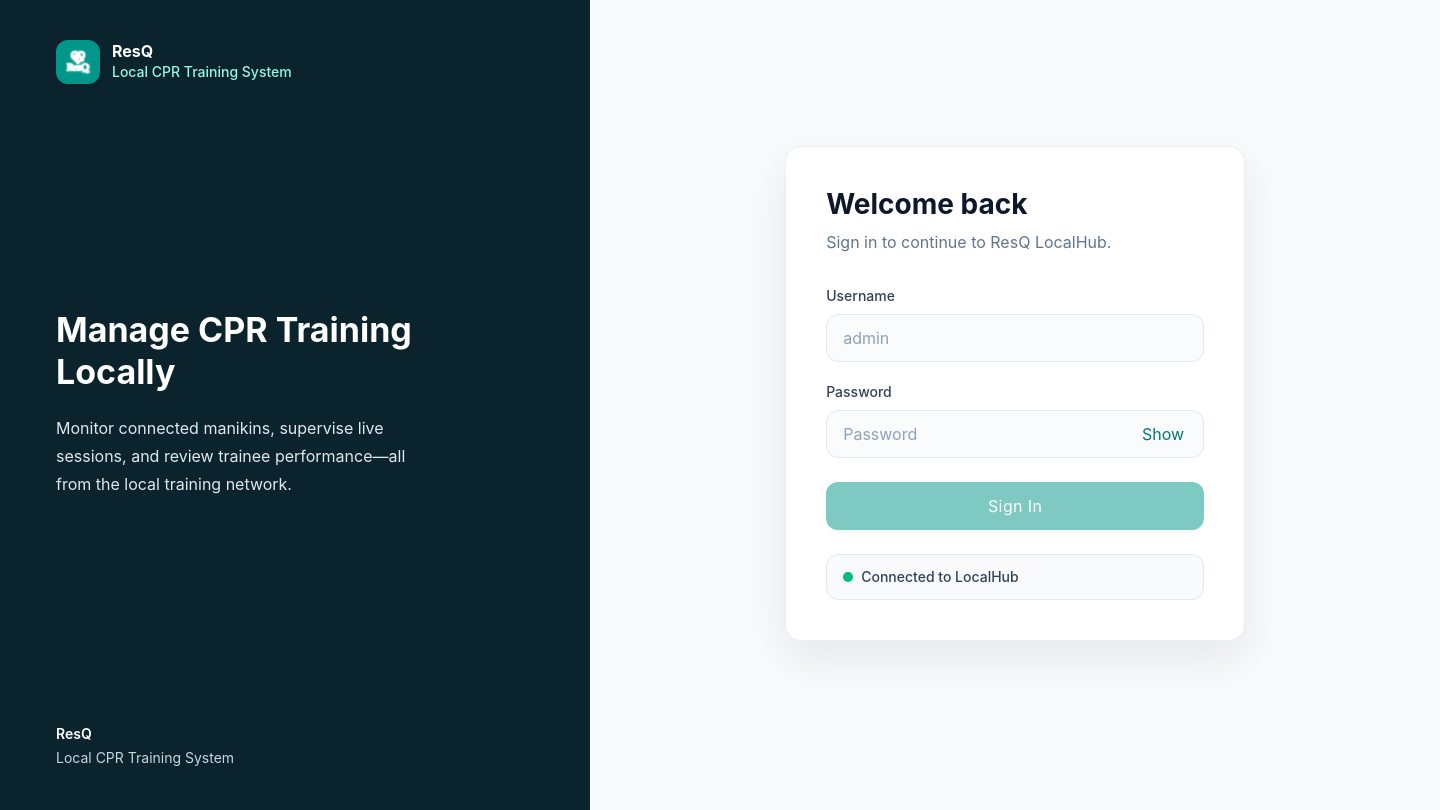
Scenario: V2 LoginPage › disables repeated submissions while sign-in is pending
The image size is (1440, 810).
Type "instructor" into the field labelled "Username" at point(1015, 338), box [826,314,1204,362]
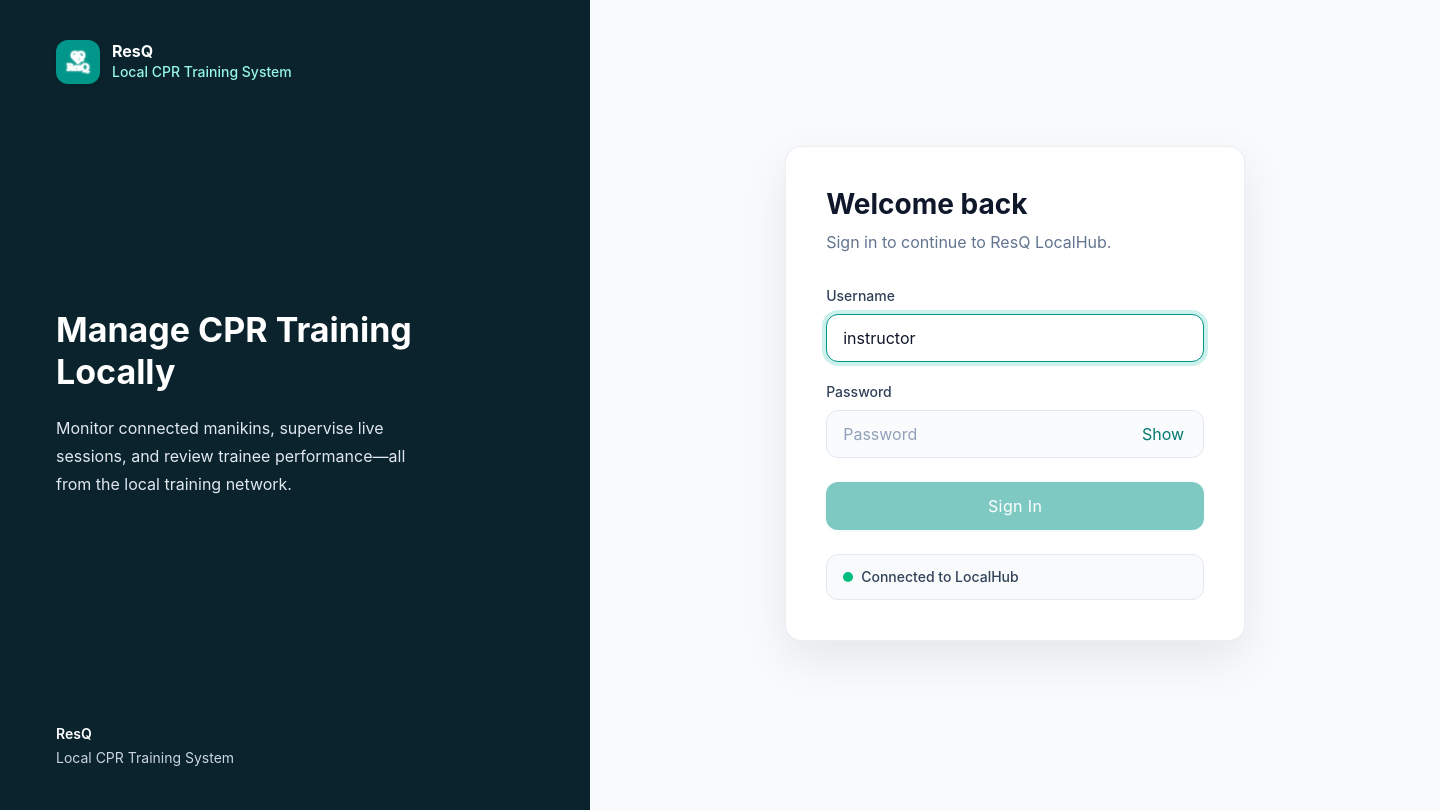
Type "correct-password" into the password field labelled "Password" at point(1015, 434), box [826,410,1204,458]
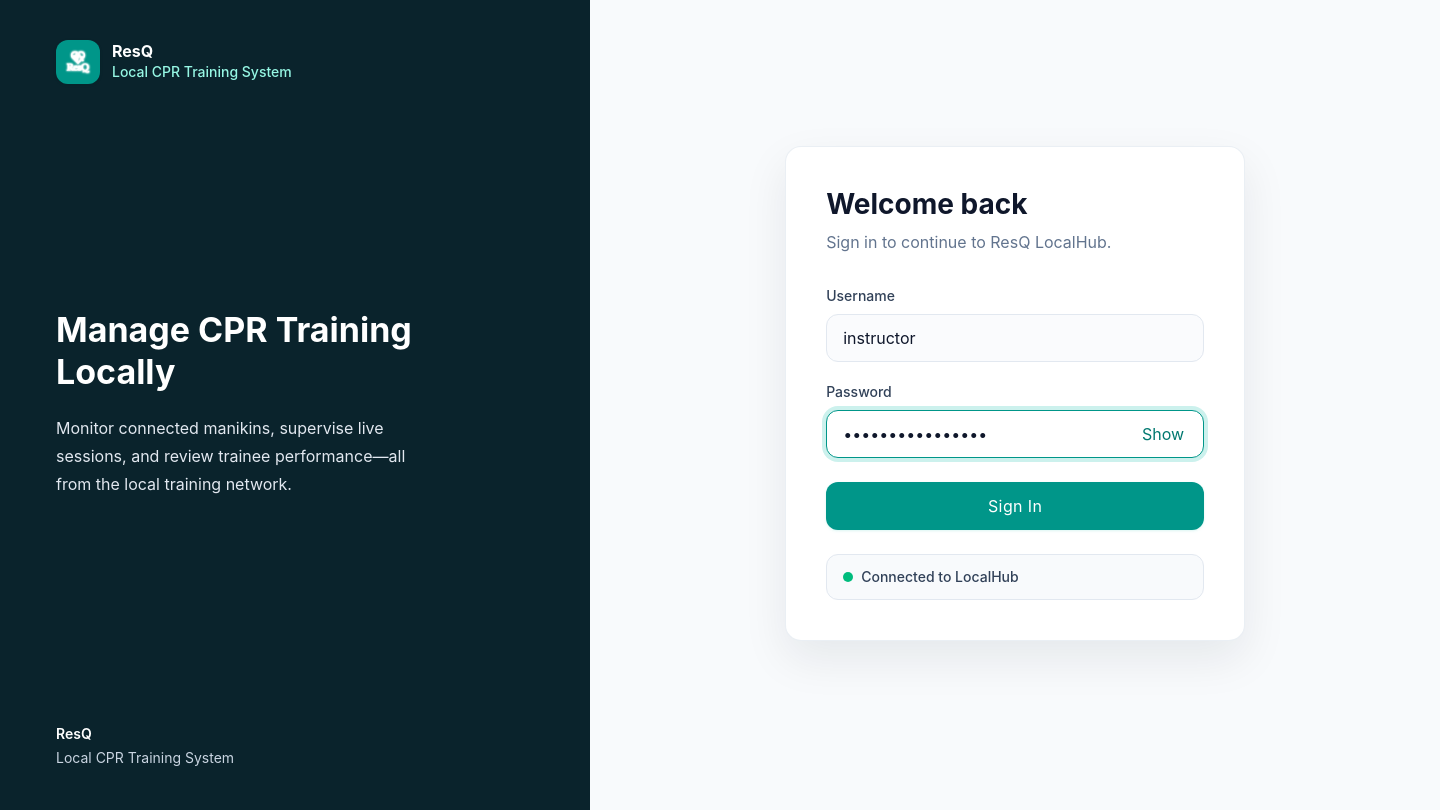
Double-click the button "Sign In" at point(1015, 506), box [826,482,1204,530]
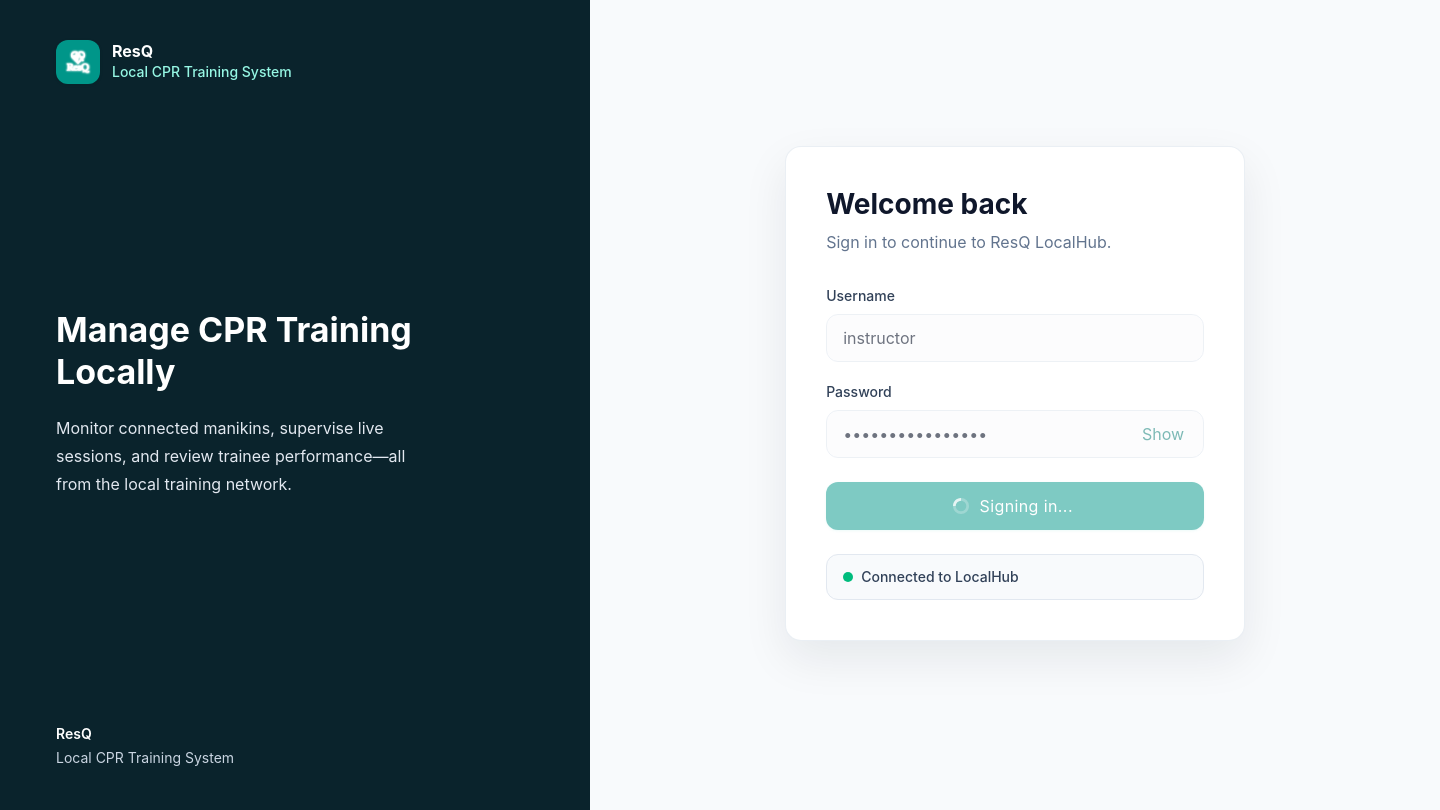
Now the button "Signing in..." is disabled, box [826,482,1204,530]
Now the field labelled "Username" is disabled, box [826,314,1204,362]
Now the password field labelled "Password" is disabled, box [826,410,1204,458]
